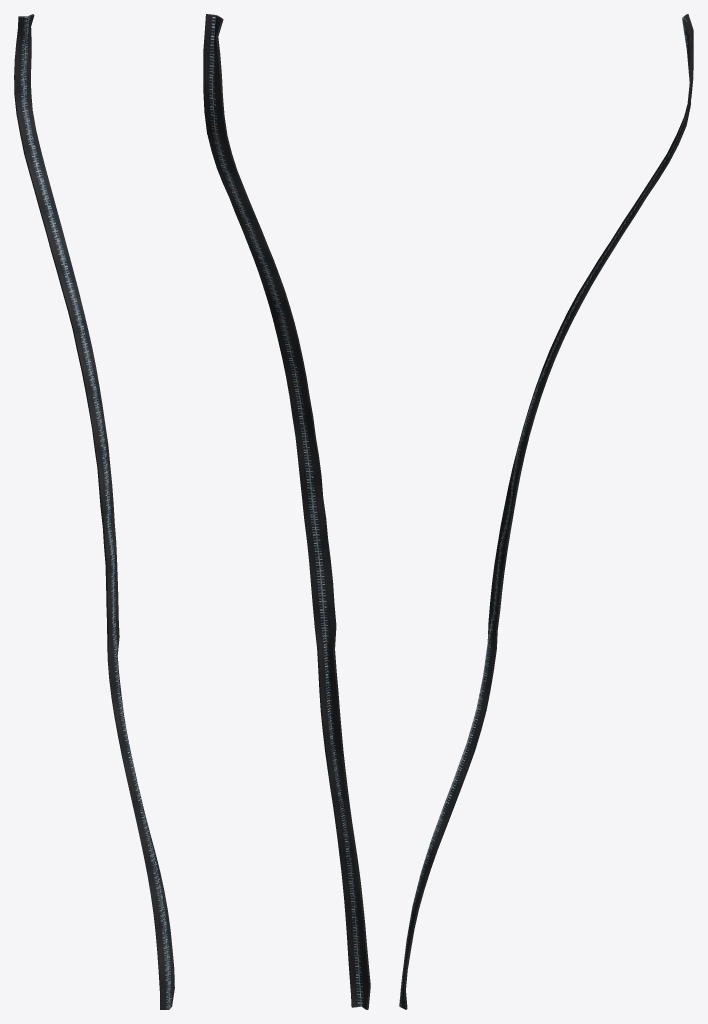
Rendered from lalian.glb.
3 renders of one model, left to right at view 1: azimuth 30°, elevation 25°; view 2: azimuth 150°, elevation 25°; view 3: azimuth 270°, elevation 25°, orthographic. The views are drawn at different scales.
Parts seen in each view (by area): view 1: LALIANq; view 2: LALIANq; view 3: LALIANq.
Part boxes in pixels (x1=…): LALIANq: x1=14, y1=14, x2=174, y2=1009; LALIANq: x1=203, y1=14, x2=370, y2=1009; LALIANq: x1=399, y1=14, x2=693, y2=1009.
Bounding box in the file's own units: 0.1953 × 5.71 × 1.55.
Materials: 1 (1 with a texture image).
